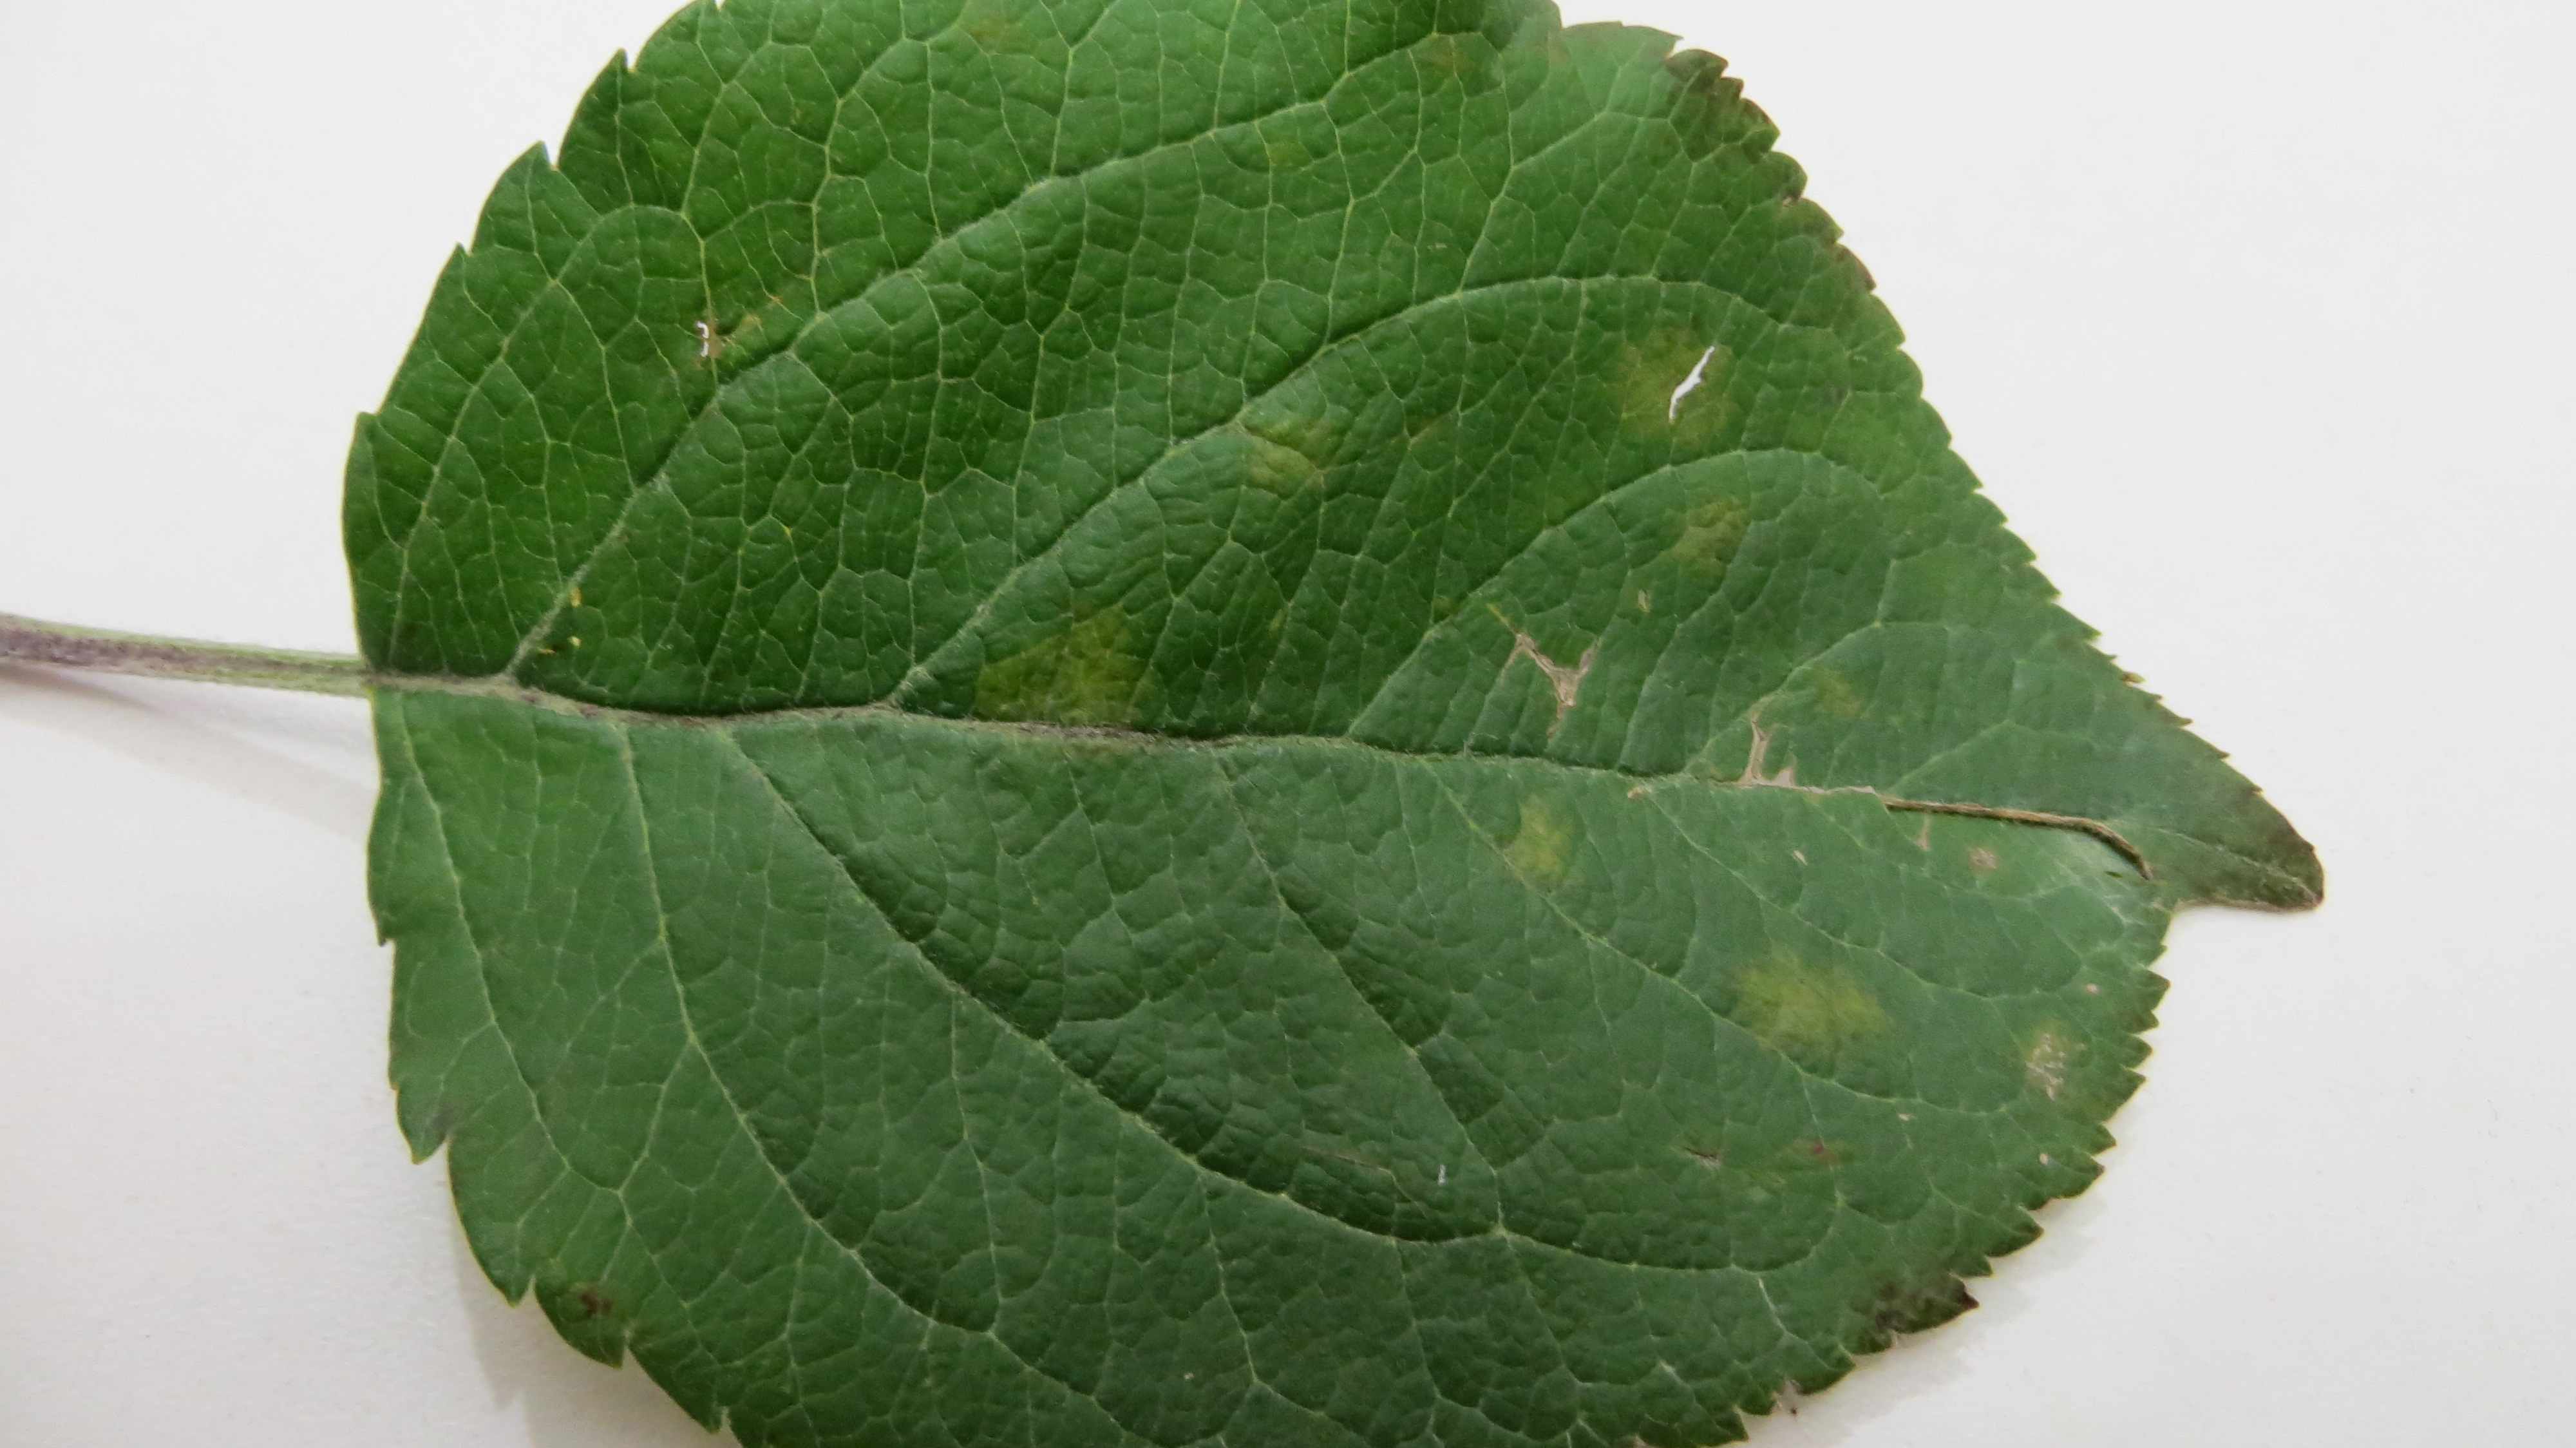sarna: (950, 579, 1143, 788), (1695, 915, 1920, 1062), (1592, 296, 1764, 466), (1458, 784, 1582, 935), (1230, 381, 1352, 490), (1661, 466, 1767, 589), (1852, 1264, 1990, 1354)
